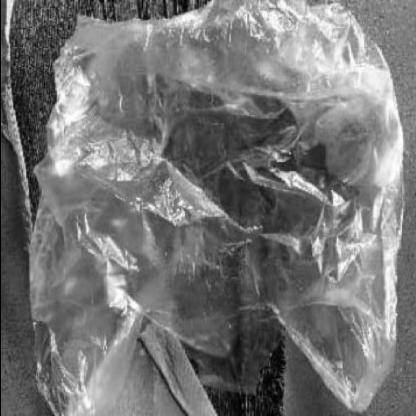objects: (12, 6, 412, 416)
